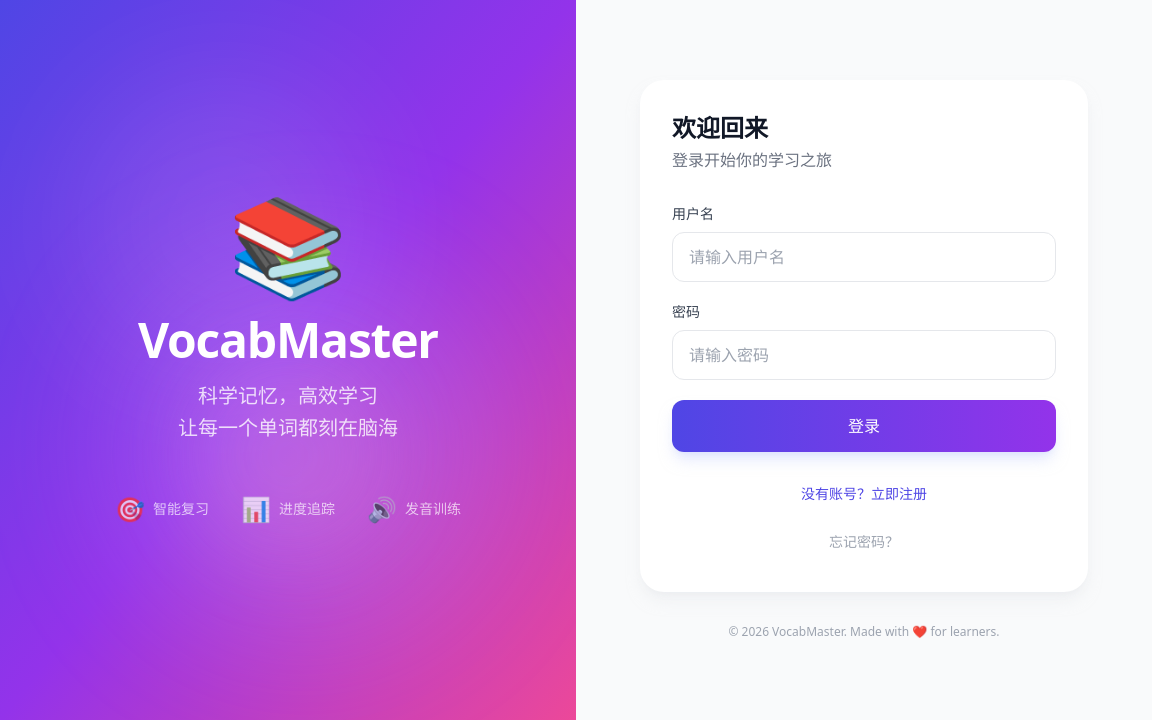
Scenario: LoginPanel Component - REQ-UI-001 › REQ-AUTH-006: Password Strength Indicator › REQ-AUTH-006: should show strength indicator in register mode when password has value
Switch to register mode
Click the button "没有账号？立即注册" at (864, 494), box [672,476,1056,512]
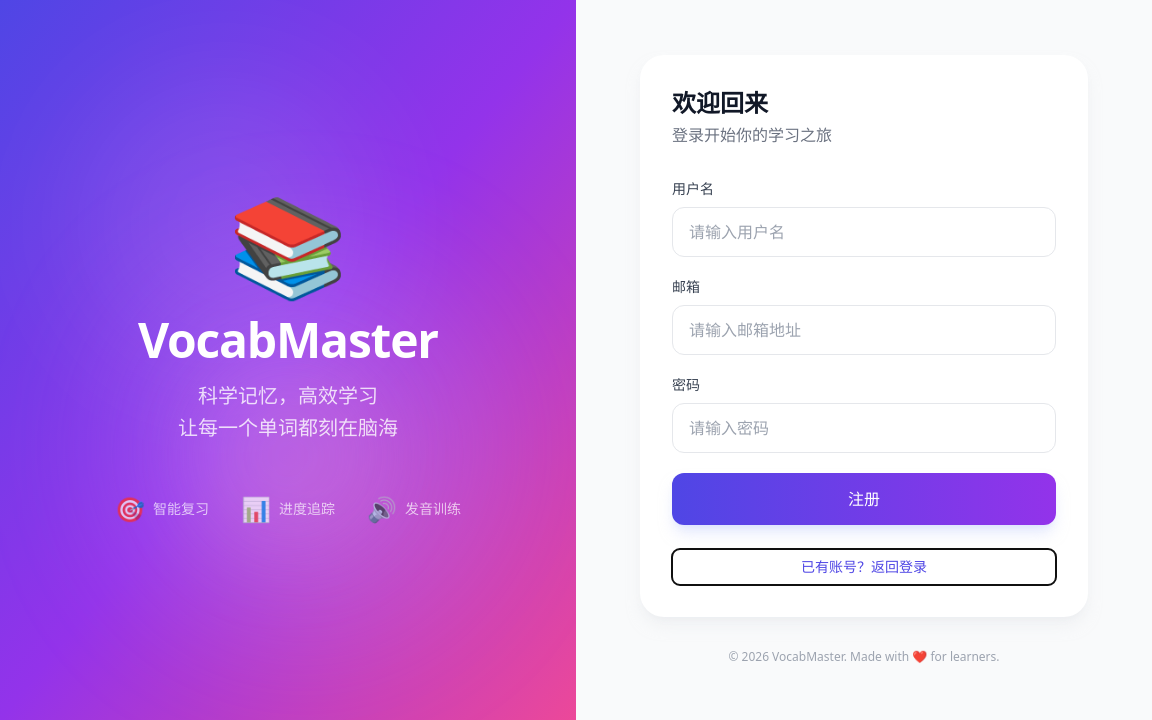
Type a password
Type "a" into the password field labelled "密码" at (864, 428), box [672,403,1056,453]
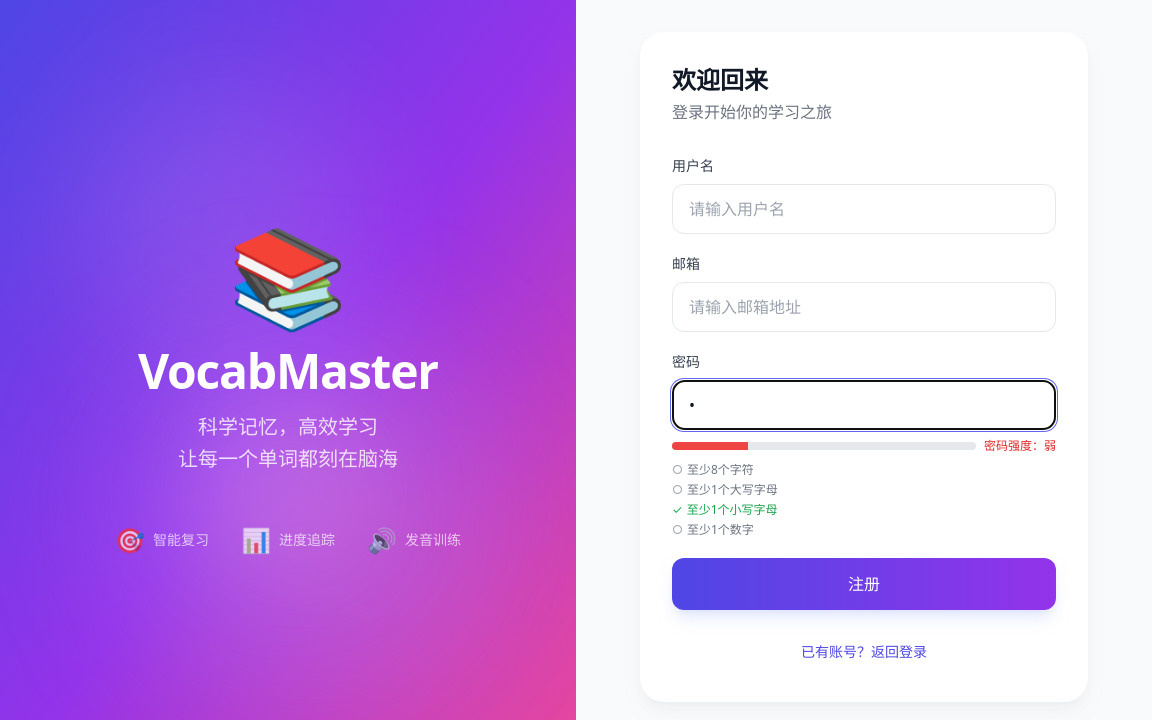
Now the text "密码强度：弱" is shown, box [984,438,1056,454]
